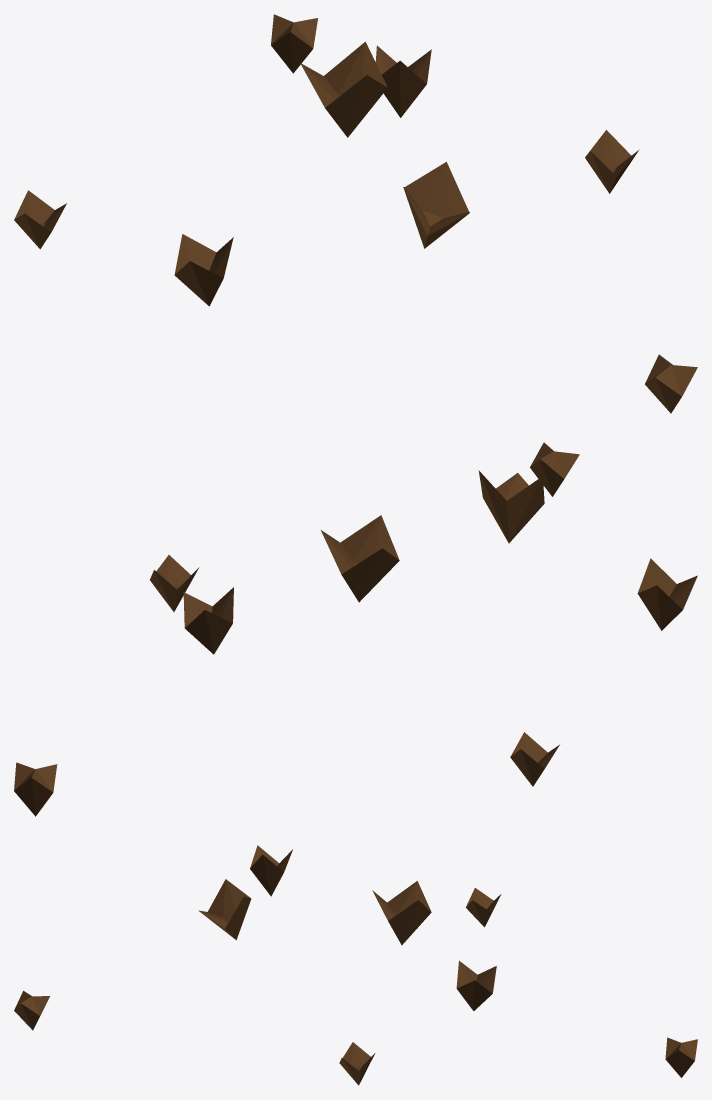
File: SM_Flower_Random_Floating_Mature_A.fbx
3 views of the same model, one above another, from view 1: azimuth 30°, elevation 25°; view 2: azimuth 150°, elevation 25°; view 3: azimuth 270°, elevation 25° (orthographic). The views are drawn at different scales.
Parts seen in each view (by area): view 1: flower-random-floating-mature-a; view 2: flower-random-floating-mature-a; view 3: flower-random-floating-mature-a.
Boxes of the visible parts, bbox=[...] form: flower-random-floating-mature-a: bbox=[14, 14, 697, 413]; flower-random-floating-mature-a: bbox=[14, 442, 697, 816]; flower-random-floating-mature-a: bbox=[14, 845, 697, 1085].
Bounding box in the file's own units: 0.6838 × 0.2487 × 1.11.
